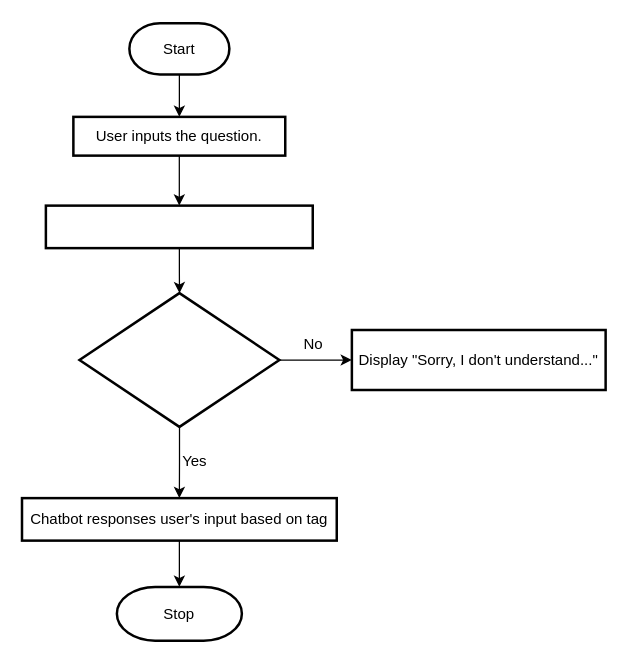
The diagram is 629 pixels wide and 663 high, and some of its shapes have lost their labels. Each missing label, with the centre of its shape:
"Classify user's input into particular tag" belongs at pixel 178 226.
"Probability of accuracy > 0.75?" belongs at pixel 179 359.
